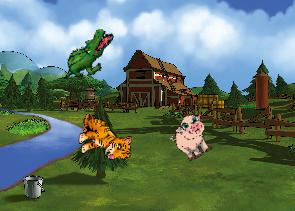crocodile: (61, 21, 115, 89)
pig: (165, 110, 219, 165)
tiger: (76, 113, 133, 161)
